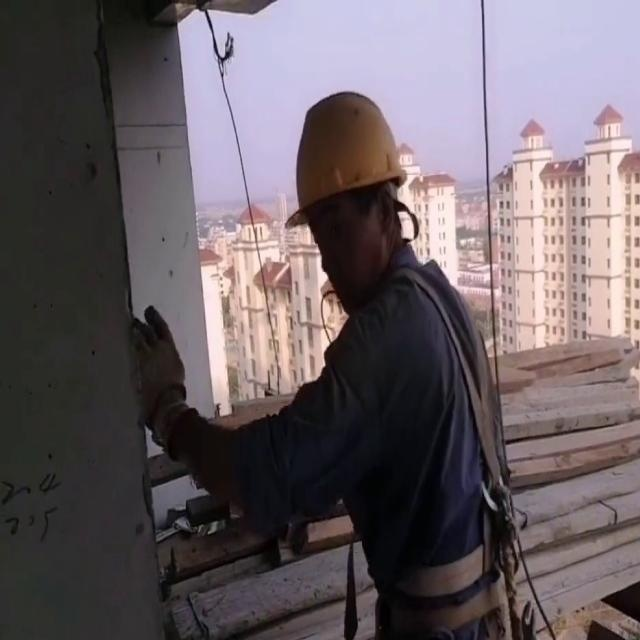Arnes_seguridad: (359, 256, 530, 606)
